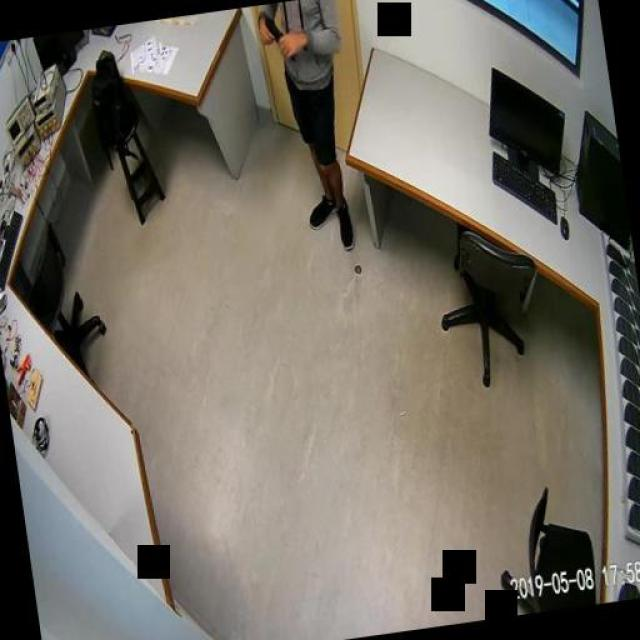gun: (258, 11, 294, 64)
